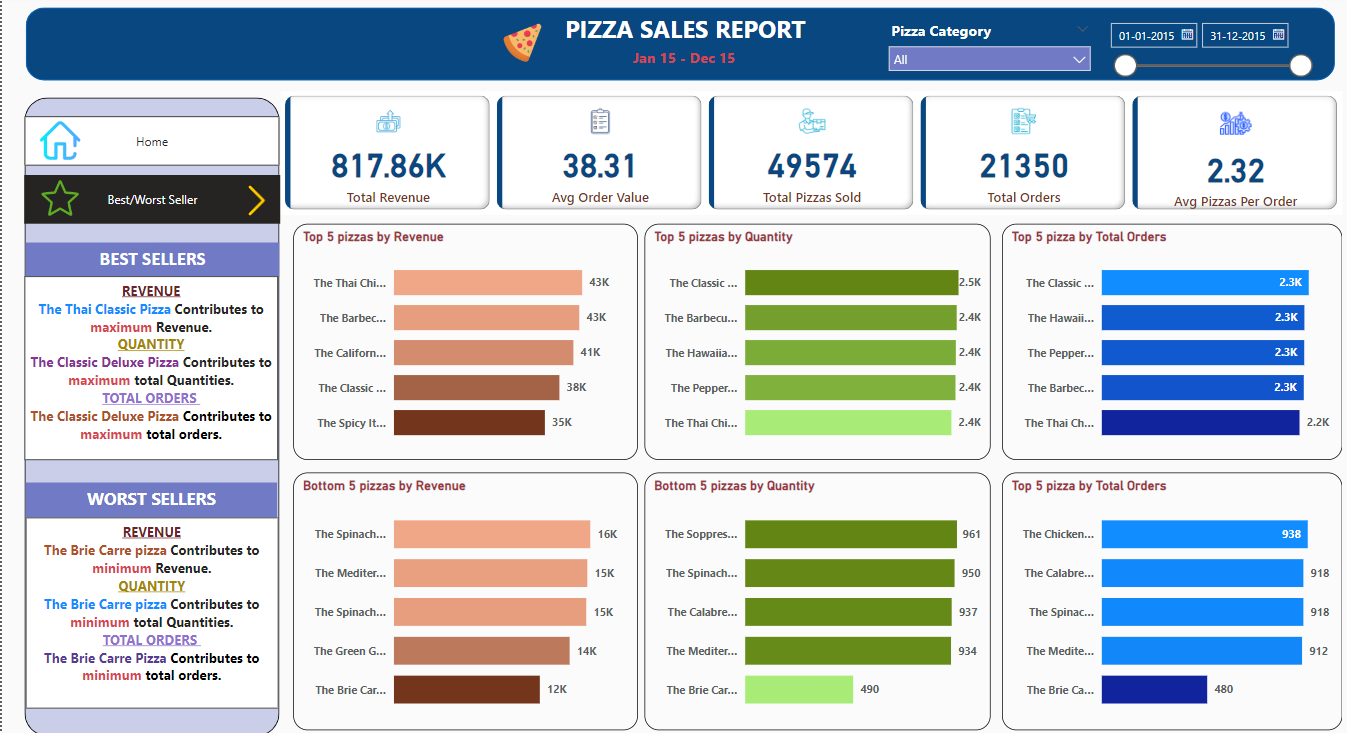

The page's visual inventory and layout, read from the dashboard file:
{"tool":"powerbi","page":{"name":"Best/Worst Seller","canvas":[1500,820],"ordinal":1},"visuals":[{"type":"cardVisual","fields":{"Data":["pizza_sales.Total Revenue","pizza_sales.Avg Order Value","pizza_sales.Total Pizzas Sold","pizza_sales.Total Orders","pizza_sales.Avg Pizzas Per Order"]},"box":[310.6,101.7,1183.8,137.9],"z":0},{"type":"shape","box":[26.2,8.8,1458.8,81.2],"z":1000},{"type":"textbox","box":[588.8,8.8,351.2,50],"z":2000},{"type":"textbox","box":[697.5,47.5,192.5,53.8],"z":3000},{"type":"image","box":[530,21.2,98.8,53.8],"z":4000},{"type":"barChart","title":"Top 5 pizzas by Revenue","fields":{"Category":["pizza_sales.pizza_name"],"Y":["pizza_sales.Total Revenue"]},"box":[324.5,249.3,384.4,263.2],"z":5000},{"type":"shape","box":[25.1,108.6,284.1,711.7],"z":6000},{"type":"textbox","box":[26.5,270.2,282.7,37.6],"z":7000},{"type":"textbox","box":[25.1,307.8,282.7,204.7],"z":8000},{"type":"textbox","box":[26.5,537.6,279.9,39],"z":9000},{"type":"textbox","box":[26.5,576.6,281.3,213.1],"z":10000},{"type":"slicer","fields":{"Values":["pizza_sales.pizza_category"]},"box":[977.5,17.5,245,65],"z":11000},{"type":"slicer","fields":{"Values":["pizza_sales.order_date"]},"box":[1222.5,15,245,86.2],"z":12000},{"type":"barChart","title":"Top 5 pizza by Total Orders","fields":{"Category":["pizza_sales.pizza_name"],"Y":["pizza_sales.Total Orders"]},"box":[1114.1,249.3,378.8,263.2],"z":13000},{"type":"barChart","title":"Bottom 5 pizzas by Revenue","fields":{"Category":["pizza_sales.pizza_name"],"Y":["pizza_sales.Total Revenue"]},"box":[324.5,526.4,384.4,286.9],"z":14000},{"type":"barChart","title":"Top 5 pizzas by Quantity","fields":{"Category":["pizza_sales.pizza_name"],"Y":["pizza_sales.Total Pizzas Sold"]},"box":[715.8,249.3,385.8,263.2],"z":15000},{"type":"barChart","title":"Bottom 5 pizzas by Quantity","fields":{"Category":["pizza_sales.pizza_name"],"Y":["pizza_sales.Total Pizzas Sold"]},"box":[715.8,526.4,385.8,286.9],"z":16000},{"type":"barChart","title":"Top 5 pizza by Total Orders","fields":{"Category":["pizza_sales.pizza_name"],"Y":["pizza_sales.Total Orders"]},"box":[1114.1,526.4,378.8,286.9],"z":17000},{"type":"pageNavigator","box":[25.1,195,285.5,54.3],"z":18000},{"type":"pageNavigator","box":[25.1,129.5,284.1,55.7],"z":19000},{"type":"image","box":[37.6,125.3,54.3,62.7],"z":20000},{"type":"image","box":[37.6,195,54.3,51.5],"z":21000},{"type":"image","box":[261.8,195,44.6,57.1],"z":22000}]}

Visuals, with their boxes in screenshot pixels (x1, y1, x2, y2), scaled from the page's 1500x820 canvas onto the 1347x733 screenshot:
cardVisual - pizza_sales.Total Revenue x pizza_sales.Avg Order Value: (279, 91, 1342, 214)
shape: (24, 8, 1334, 80)
textbox: (529, 8, 844, 53)
textbox: (626, 42, 799, 91)
image: (476, 19, 565, 67)
"Top 5 pizzas by Revenue" barChart: (291, 223, 637, 458)
shape: (23, 97, 278, 732)
textbox: (24, 242, 278, 275)
textbox: (23, 275, 276, 458)
textbox: (24, 481, 275, 515)
textbox: (24, 515, 276, 706)
slicer - pizza_sales.pizza_category: (878, 16, 1098, 74)
slicer - pizza_sales.order_date: (1098, 13, 1318, 90)
"Top 5 pizza by Total Orders" barChart: (1000, 223, 1341, 458)
"Bottom 5 pizzas by Revenue" barChart: (291, 471, 637, 727)
"Top 5 pizzas by Quantity" barChart: (643, 223, 989, 458)
"Bottom 5 pizzas by Quantity" barChart: (643, 471, 989, 727)
"Top 5 pizza by Total Orders" barChart: (1000, 471, 1341, 727)
pageNavigator: (23, 174, 279, 223)
pageNavigator: (23, 116, 278, 166)
image: (34, 112, 83, 168)
image: (34, 174, 83, 220)
image: (235, 174, 275, 225)
